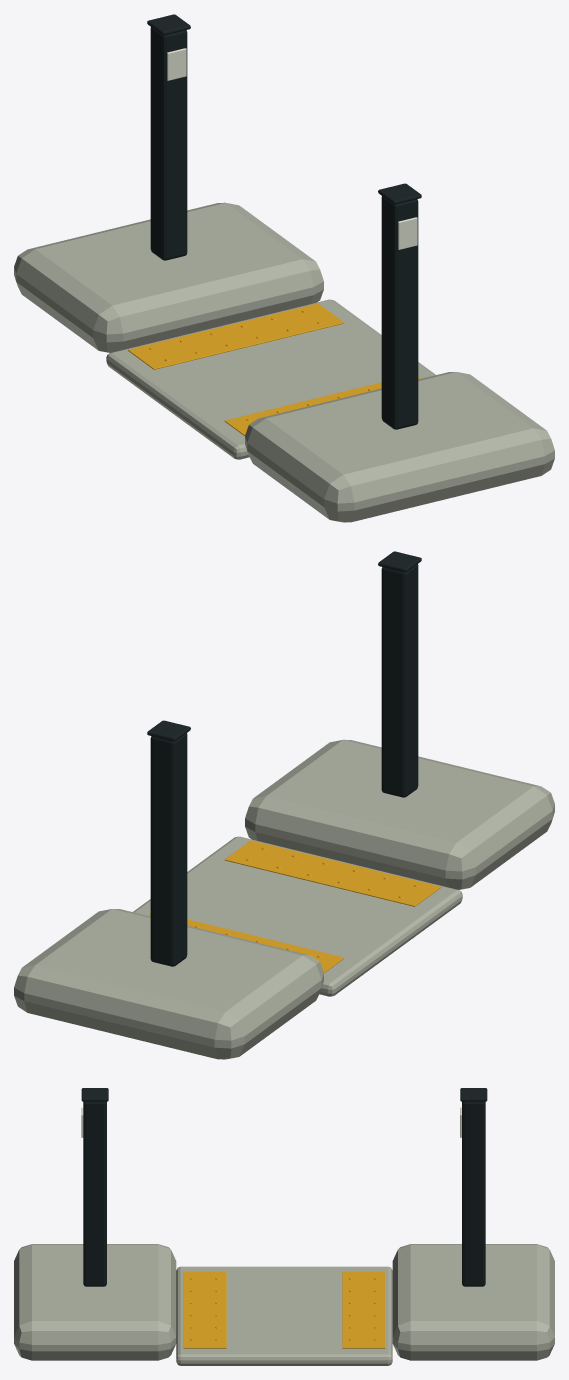
The picture shows the model from 3 angles, top to bottom: view 1: azimuth 30°, elevation 25°; view 2: azimuth 150°, elevation 25°; view 3: azimuth 270°, elevation 25°; orthographic projection. The views are drawn at different scales.
Parts seen in each view (by area): view 1: ISLAND_RaisedEnd, ISLAND_RaisedEnd.001, CROSSING_FlushPanel, BOLLARD_Post, BOLLARD_Post.001, TACTILE_Panel.001, TACTILE_Panel; view 2: ISLAND_RaisedEnd.001, ISLAND_RaisedEnd, CROSSING_FlushPanel, BOLLARD_Post.001, BOLLARD_Post, TACTILE_Panel, TACTILE_Panel.001; view 3: ISLAND_RaisedEnd, ISLAND_RaisedEnd.001, CROSSING_FlushPanel, BOLLARD_Post.001, BOLLARD_Post, TACTILE_Panel, TACTILE_Panel.001, BOLLARD_Cap.001, BOLLARD_Cap.
Boxes of the visible parts, x1=… form: ISLAND_RaisedEnd: x1=245, y1=372, x2=554, y2=522; ISLAND_RaisedEnd.001: x1=14, y1=202, x2=323, y2=352; CROSSING_FlushPanel: x1=106, y1=299, x2=435, y2=459; BOLLARD_Post: x1=150, y1=27, x2=187, y2=260; BOLLARD_Post.001: x1=381, y1=196, x2=418, y2=429; TACTILE_Panel.001: x1=128, y1=303, x2=344, y2=369; TACTILE_Panel: x1=224, y1=377, x2=420, y2=435; ISLAND_RaisedEnd.001: x1=14, y1=909, x2=323, y2=1059; ISLAND_RaisedEnd: x1=245, y1=739, x2=554, y2=889; CROSSING_FlushPanel: x1=133, y1=836, x2=462, y2=996; BOLLARD_Post.001: x1=381, y1=564, x2=418, y2=797; BOLLARD_Post: x1=150, y1=733, x2=187, y2=966; TACTILE_Panel: x1=224, y1=840, x2=440, y2=906; TACTILE_Panel.001: x1=148, y1=914, x2=344, y2=972; ISLAND_RaisedEnd: x1=14, y1=1244, x2=176, y2=1360; ISLAND_RaisedEnd.001: x1=392, y1=1244, x2=554, y2=1360; CROSSING_FlushPanel: x1=176, y1=1266, x2=392, y2=1365; BOLLARD_Post.001: x1=83, y1=1101, x2=106, y2=1286; BOLLARD_Post: x1=462, y1=1101, x2=485, y2=1286; TACTILE_Panel: x1=183, y1=1271, x2=226, y2=1348; TACTILE_Panel.001: x1=342, y1=1271, x2=385, y2=1348; BOLLARD_Cap.001: x1=81, y1=1088, x2=108, y2=1101; BOLLARD_Cap: x1=460, y1=1088, x2=487, y2=1101.
Size of the model in its own units: 1.2 by 1.4 by 3.
